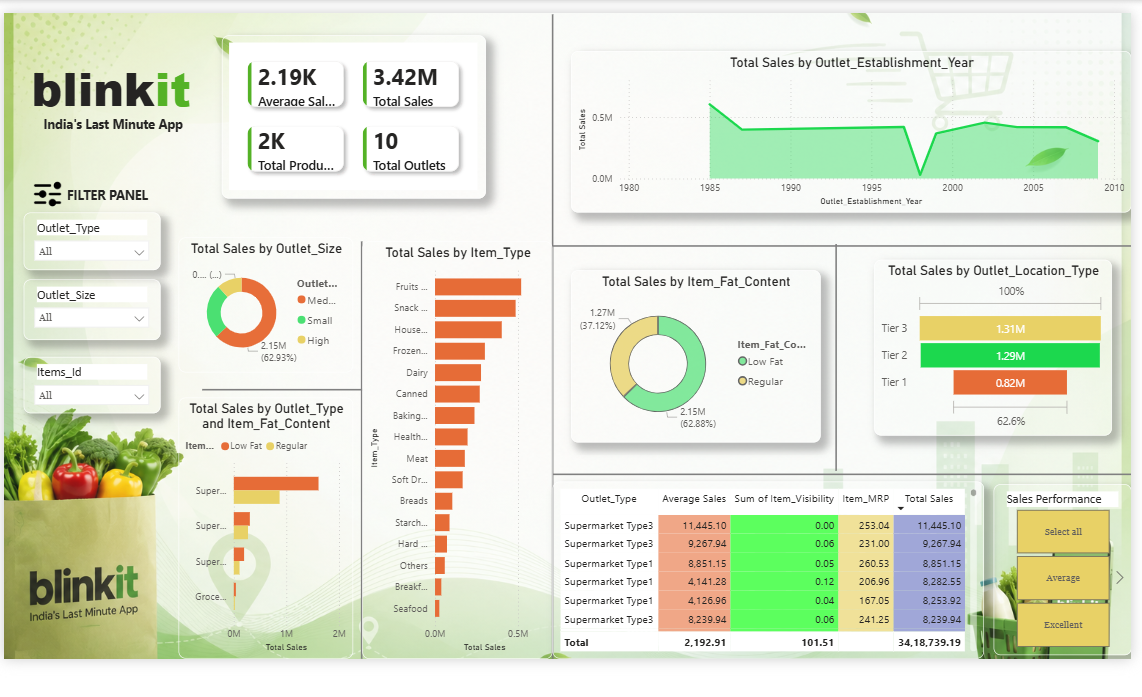

The dashboard page shown, as its layout file describes it:
{"tool":"powerbi","page":{"name":"Page 1","canvas":[1431,820],"ordinal":0},"visuals":[{"type":"shape","box":[0,0,221.4,872.9],"z":0},{"type":"textbox","box":[30,48.6,232.9,95.7],"z":1000},{"type":"textbox","box":[44.3,125.7,205.7,37.1],"z":2000},{"type":"shape","box":[680,1.7,33.3,818.3],"z":3000},{"type":"shape","box":[696.7,278.3,735,35],"z":4000},{"type":"shape","box":[1036.7,293.3,40,288.3],"z":5000},{"type":"shape","box":[696.7,570,735,31.7],"z":6000},{"type":"textbox","box":[74.2,215.7,123.7,37.7],"z":7000},{"type":"image","box":[36.5,206.6,37.7,46.7],"z":8000},{"type":"slicer","fields":{"Values":["dim _outlet.Outlet_Type"]},"box":[25,253.3,173.3,73.3],"z":9000},{"type":"slicer","fields":{"Values":["dim _outlet.Outlet_Size"]},"box":[25,338.3,173.3,76.7],"z":10000},{"type":"slicer","fields":{"Values":["dim_item.Items_Id"]},"box":[25,436.7,173.3,71.7],"z":11000},{"type":"cardVisual","fields":{"Data":["fact_sales.Average Sales","fact_sales.Total Sales","dim_item.Total Products","dim _outlet.Total Outlets"]},"box":[276.2,27.5,335,207.5],"z":12000},{"type":"areaChart","fields":{"Category":["dim _outlet.Outlet_Establishment_Year"],"Y":["fact_sales.Total Sales"]},"box":[720,48.3,711.7,205],"z":13000},{"type":"donutChart","fields":{"Category":["fact_sales.Item_Fat_Content"],"Y":["fact_sales.Total Sales"]},"box":[720,326.7,316.7,218.3],"z":14000},{"type":"funnel","fields":{"Category":["dim _outlet.Outlet_Location_Type"],"Y":["fact_sales.Total Sales"]},"box":[1105,313.3,301.7,223.3],"z":15000},{"type":"donutChart","fields":{"Category":["fact_sales.Outlet_Size"],"Y":["fact_sales.Total Sales"]},"box":[221.7,285,221.7,171.7],"z":16000},{"type":"shape","box":[251.7,456.7,203.3,43.3],"z":17000},{"type":"shape","box":[435,290,38.3,530],"z":18000},{"type":"clusteredBarChart","fields":{"Category":["dim_item.Item_Type"],"Y":["fact_sales.Total Sales"]},"box":[455,290,241.7,530],"z":19000},{"type":"clusteredBarChart","fields":{"Y":["fact_sales.Total Sales"],"Category":["fact_sales.Outlet_Type"],"Series":["dim_item.Item_Fat_Content"]},"box":[221.7,488.3,221.7,331.7],"z":20000},{"type":"tableEx","fields":{"Values":["fact_sales.Outlet_Type","fact_sales.Average Sales","Sum(fact_sales.Item_Visibility)","dim_item.Item_MRP","fact_sales.Total Sales"]},"box":[697.3,595.5,548.2,224.5],"z":21000},{"type":"slicer","fields":{"Values":["fact_sales.Sales Performance"]},"box":[1256.2,598.8,175,217.5],"z":21001}]}

Visuals, with their boxes on the page's 1431x820 design canvas (x1, y1, x2, y2). These are canvas units, not pixel positions in the 1142x697 screenshot, which may show the page scaled, cropped or inside an application window:
shape: x1=0, y1=0, x2=221, y2=873
textbox: x1=30, y1=49, x2=263, y2=144
textbox: x1=44, y1=126, x2=250, y2=163
shape: x1=680, y1=2, x2=713, y2=820
shape: x1=697, y1=278, x2=1432, y2=313
shape: x1=1037, y1=293, x2=1077, y2=582
shape: x1=697, y1=570, x2=1432, y2=602
textbox: x1=74, y1=216, x2=198, y2=253
image: x1=36, y1=207, x2=74, y2=253
slicer - dim _outlet.Outlet_Type: x1=25, y1=253, x2=198, y2=327
slicer - dim _outlet.Outlet_Size: x1=25, y1=338, x2=198, y2=415
slicer - dim_item.Items_Id: x1=25, y1=437, x2=198, y2=508
cardVisual - fact_sales.Average Sales x fact_sales.Total Sales: x1=276, y1=28, x2=611, y2=235
areaChart - dim _outlet.Outlet_Establishment_Year x fact_sales.Total Sales: x1=720, y1=48, x2=1432, y2=253
donutChart - fact_sales.Item_Fat_Content x fact_sales.Total Sales: x1=720, y1=327, x2=1037, y2=545
funnel - dim _outlet.Outlet_Location_Type x fact_sales.Total Sales: x1=1105, y1=313, x2=1407, y2=537
donutChart - fact_sales.Outlet_Size x fact_sales.Total Sales: x1=222, y1=285, x2=443, y2=457
shape: x1=252, y1=457, x2=455, y2=500
shape: x1=435, y1=290, x2=473, y2=820
clusteredBarChart - dim_item.Item_Type x fact_sales.Total Sales: x1=455, y1=290, x2=697, y2=820
clusteredBarChart - fact_sales.Total Sales x fact_sales.Outlet_Type: x1=222, y1=488, x2=443, y2=820
tableEx - fact_sales.Outlet_Type x fact_sales.Average Sales: x1=697, y1=596, x2=1246, y2=820
slicer - fact_sales.Sales Performance: x1=1256, y1=599, x2=1431, y2=816
